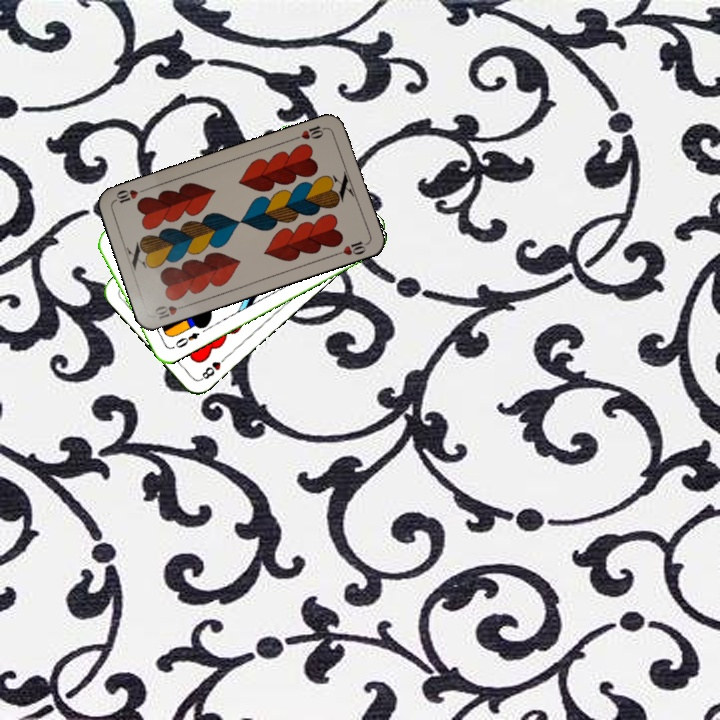EO: (171, 328, 202, 350)
H10: (151, 300, 190, 323), (290, 121, 329, 143)
H8: (196, 352, 230, 383)
